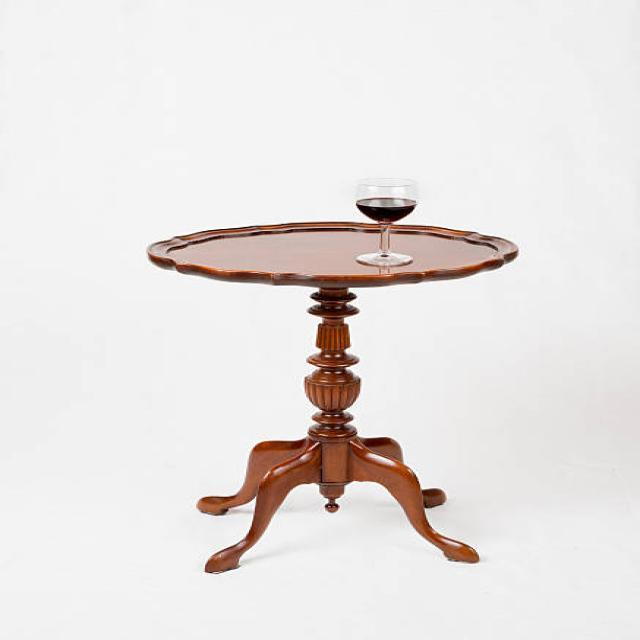table: (144, 218, 518, 574)
